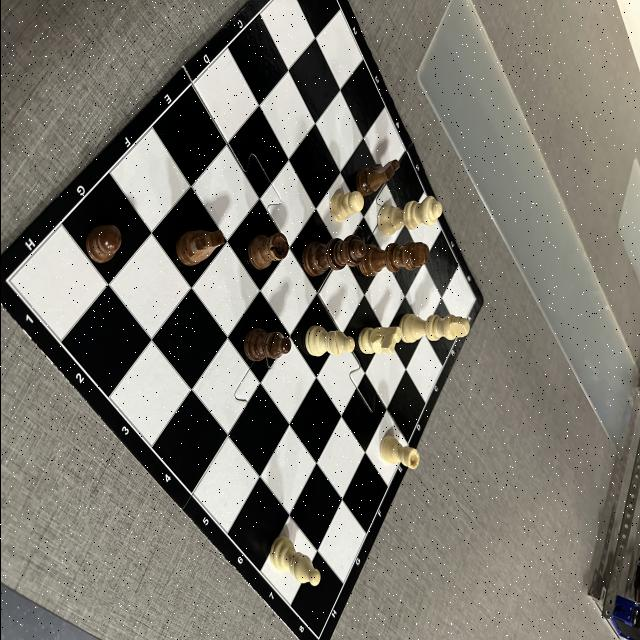Black-Bishop: (242, 328, 290, 362)
Black-King: (358, 241, 428, 277)
Black-Knight: (176, 230, 223, 266), (355, 159, 399, 196)
Black-Pawn: (86, 224, 120, 262)
Black-Queen: (302, 233, 365, 276)
Black-Rook: (247, 233, 287, 270)
White-Bishop: (271, 538, 319, 586), (304, 324, 354, 356)
White-King: (397, 314, 469, 342)
White-Knight: (358, 326, 400, 354)
White-Pawn: (329, 190, 364, 222)
White-Queen: (377, 196, 441, 237)
White-Rook: (379, 436, 419, 470)
